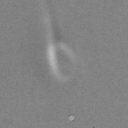normal: (38, 1, 61, 41)
